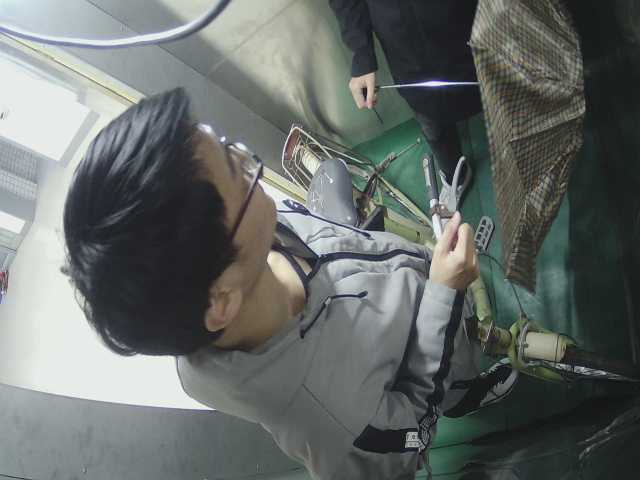bicycle: (271, 120, 632, 399)
person: (71, 98, 464, 479)
